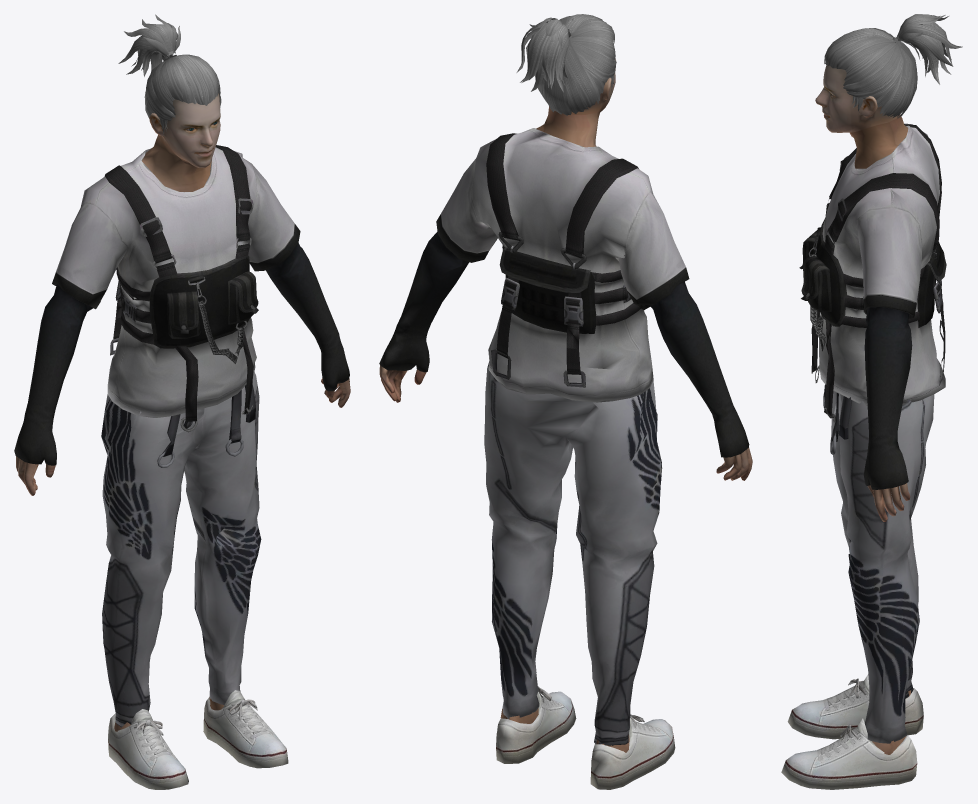
The picture shows the model from 3 angles, left to right: view 1: azimuth 30°, elevation 25°; view 2: azimuth 150°, elevation 25°; view 3: azimuth 270°, elevation 25°; orthographic projection. The views are drawn at different scales.
Visible parts, largest first — view 1: Mesh_0003.rip, Mesh_0002.rip, Mesh_0001.rip, Mesh_0000.rip, Mesh_0033.rip; view 2: Mesh_0003.rip, Mesh_0002.rip, Mesh_0033.rip, Mesh_0001.rip, Mesh_0000.rip; view 3: Mesh_0003.rip, Mesh_0002.rip, Mesh_0001.rip, Mesh_0033.rip, Mesh_0000.rip.
Part boxes in pixels (x1=…): Mesh_0003.rip: x1=14, y1=145, x2=349, y2=465; Mesh_0002.rip: x1=101, y1=370, x2=261, y2=727; Mesh_0001.rip: x1=108, y1=690, x2=288, y2=789; Mesh_0000.rip: x1=16, y1=93, x2=350, y2=731; Mesh_0033.rip: x1=118, y1=14, x2=221, y2=133; Mesh_0003.rip: x1=379, y1=128, x2=749, y2=457; Mesh_0002.rip: x1=484, y1=361, x2=662, y2=745; Mesh_0033.rip: x1=516, y1=14, x2=616, y2=115; Mesh_0001.rip: x1=496, y1=686, x2=675, y2=789; Mesh_0000.rip: x1=379, y1=35, x2=752, y2=752; Mesh_0003.rip: x1=799, y1=123, x2=946, y2=489; Mesh_0002.rip: x1=823, y1=384, x2=934, y2=743; Mesh_0001.rip: x1=781, y1=674, x2=923, y2=789; Mesh_0033.rip: x1=824, y1=14, x2=962, y2=118; Mesh_0000.rip: x1=815, y1=59, x2=910, y2=754.
Bounding box in the file's own units: 4.36 × 8.88 × 1.98.
5 materials, 5 textured.
